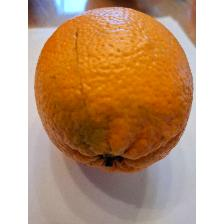Orange: (32, 3, 196, 178)
